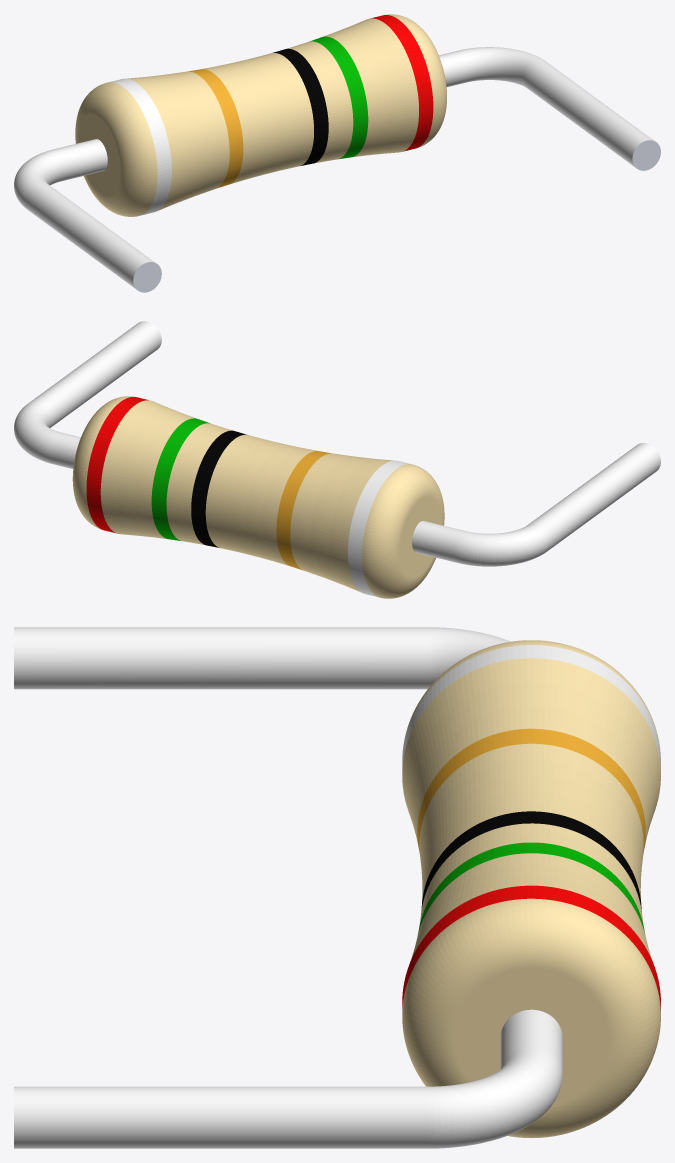
File: Resistor_0.25W.glb
The picture shows the model from 3 angles, top to bottom: view 1: azimuth 30°, elevation 25°; view 2: azimuth 150°, elevation 25°; view 3: azimuth 270°, elevation 25°; orthographic projection. The views are drawn at different scales.
Parts seen in each view (by area): view 1: Node1, Node2, Node5, Node4, Node6, Node3, Node7; view 2: Node1, Node2, Node5, Node4, Node6, Node3; view 3: Node1, Node2, Node3, Node5, Node6, Node4.
Boxes of the visible parts, x1,y1,x2,y2 form: Node1: (75,14,446,216); Node2: (14,47,654,289); Node5: (370,15,433,151); Node4: (309,36,368,159); Node6: (273,48,328,165); Node3: (187,69,243,188); Node7: (133,140,660,292); Node1: (72,396,444,598); Node2: (14,321,660,596); Node5: (86,396,148,533); Node4: (151,418,209,540); Node6: (191,430,246,547); Node3: (276,451,330,570); Node1: (402,640,660,1137); Node2: (14,627,660,1148); Node3: (417,728,645,854); Node5: (402,885,660,1010); Node6: (421,811,641,911); Node4: (418,842,644,933).
Size of the model in its own units: 11.1 by 2.5 by 6.25.
